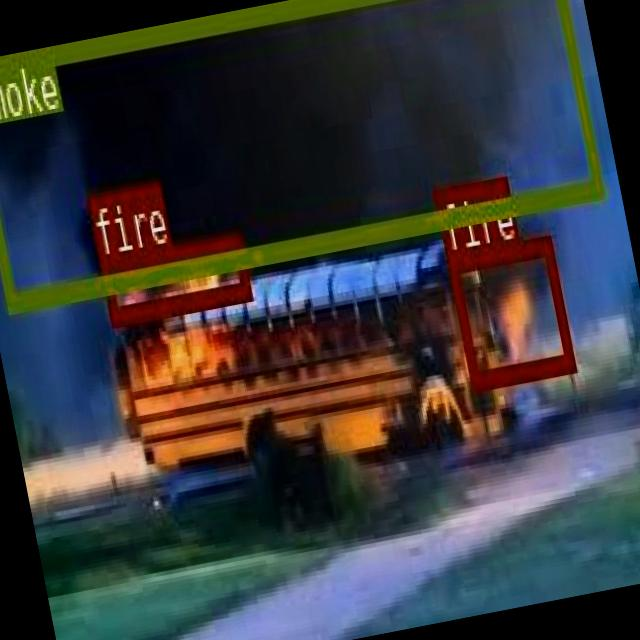fire: (444, 234, 574, 389), (98, 230, 249, 323)
smoke: (0, 0, 603, 311)
